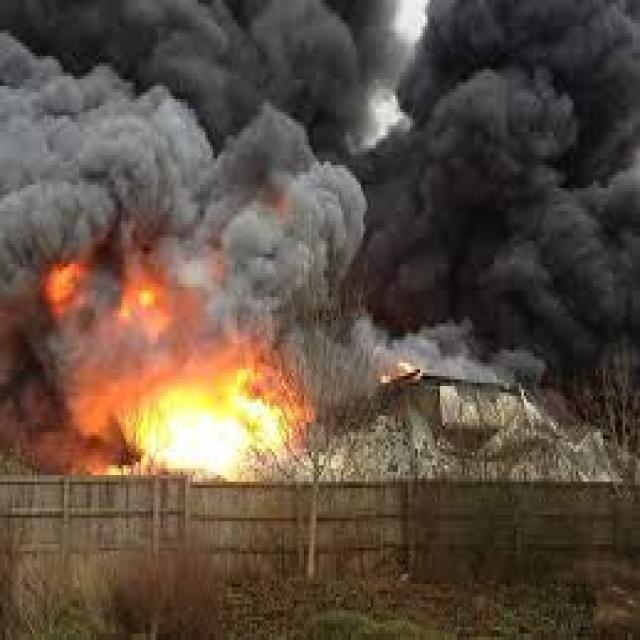Fire: (134, 368, 285, 481)
Smoke: (0, 0, 640, 474)
